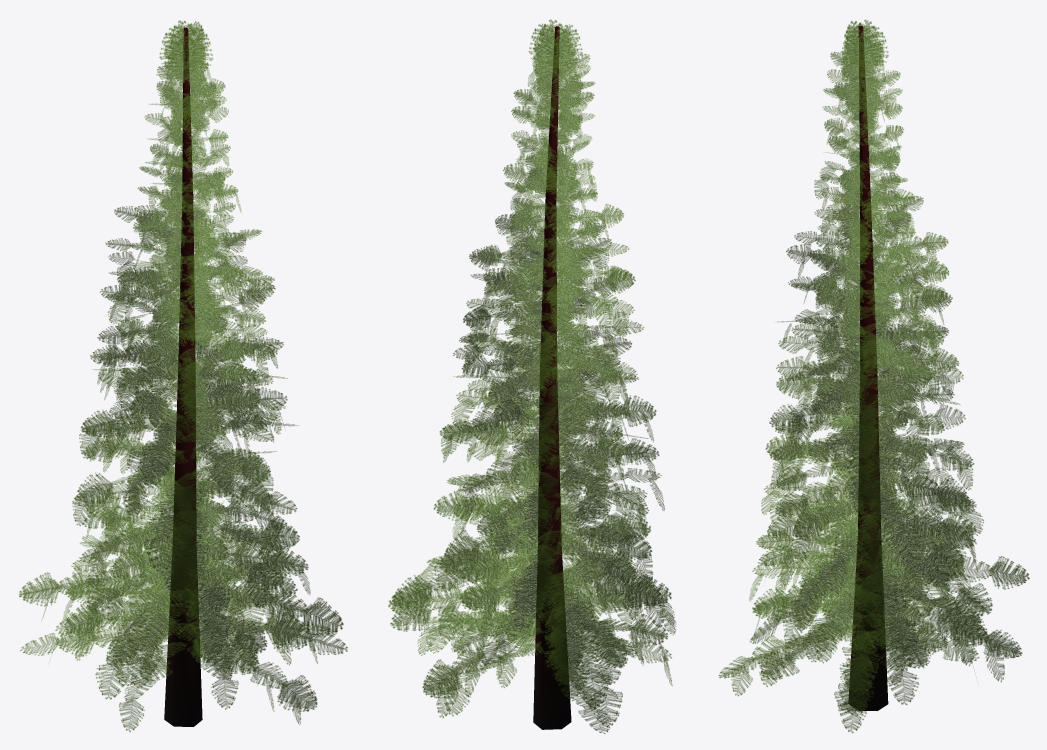
The model's file is larch_sparse_v02_LOD2.glb.
3 renders of one model, left to right at view 1: azimuth 30°, elevation 25°; view 2: azimuth 150°, elevation 25°; view 3: azimuth 270°, elevation 25°, orthographic. The views are drawn at different scales.
Parts seen in each view (by area): view 1: larch_sparse_v02_LOD2; view 2: larch_sparse_v02_LOD2; view 3: larch_sparse_v02_LOD2.
Boxes of the visible parts, x1,y1,x2,y2 form: larch_sparse_v02_LOD2: (19,20,347,731); larch_sparse_v02_LOD2: (388,19,676,733); larch_sparse_v02_LOD2: (718,19,1029,732).
Size of the model in its own units: 7.01 by 17.21 by 7.33.
2 materials, 2 textured.
